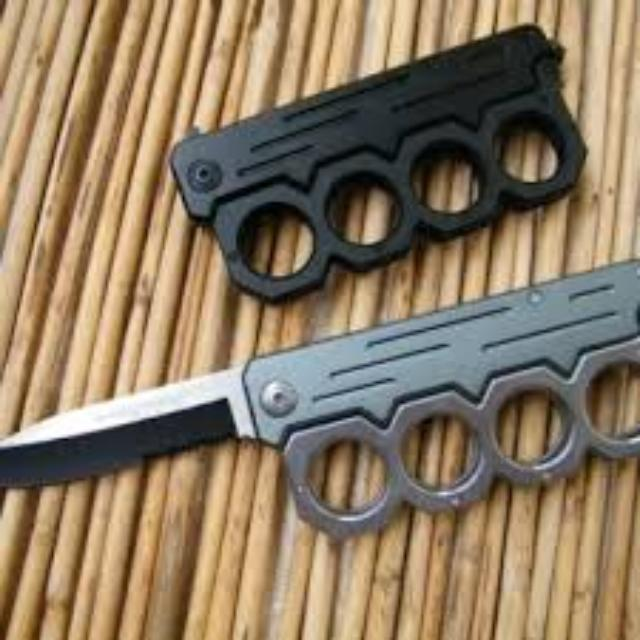knife: (0, 240, 638, 540)
